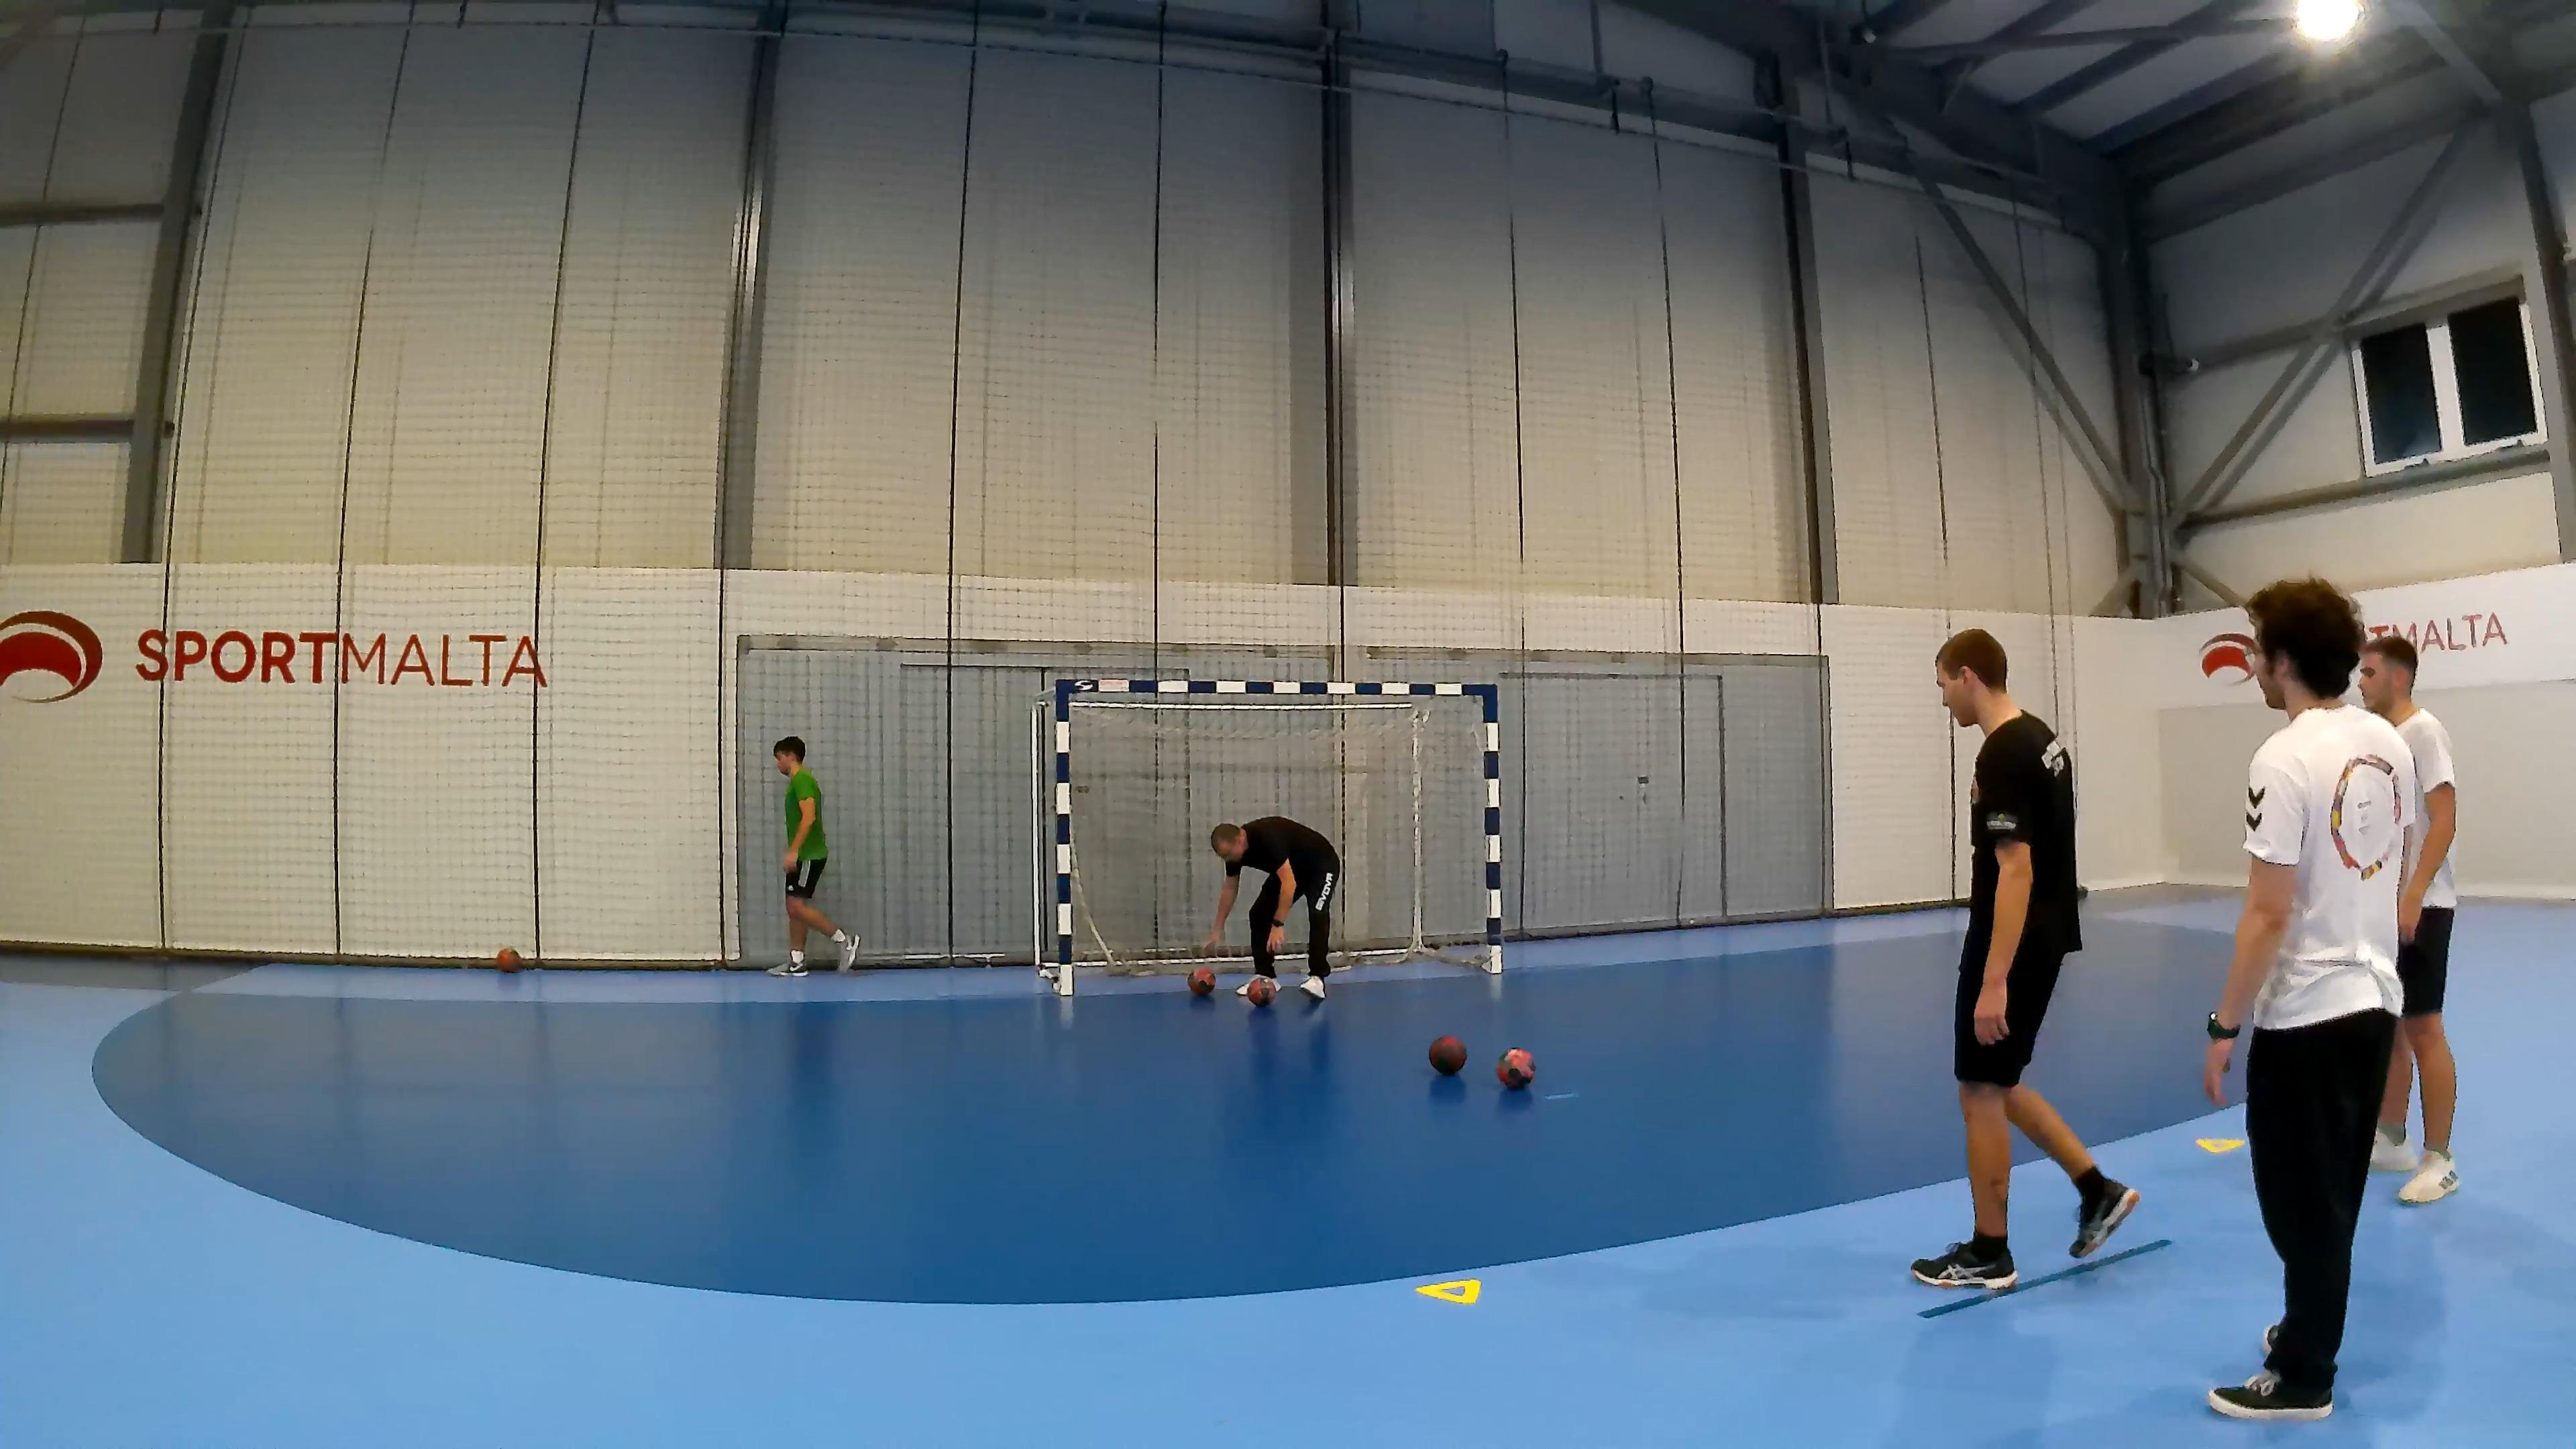handball: (1426, 1033, 1465, 1074), (1495, 1047, 1534, 1088), (1244, 975, 1279, 1005), (1187, 966, 1215, 994)
